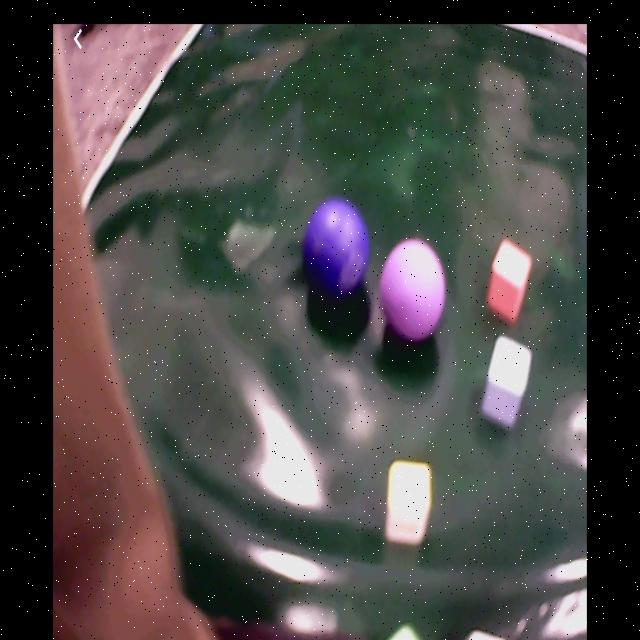ball: (380, 238, 447, 343), (307, 197, 369, 297)
